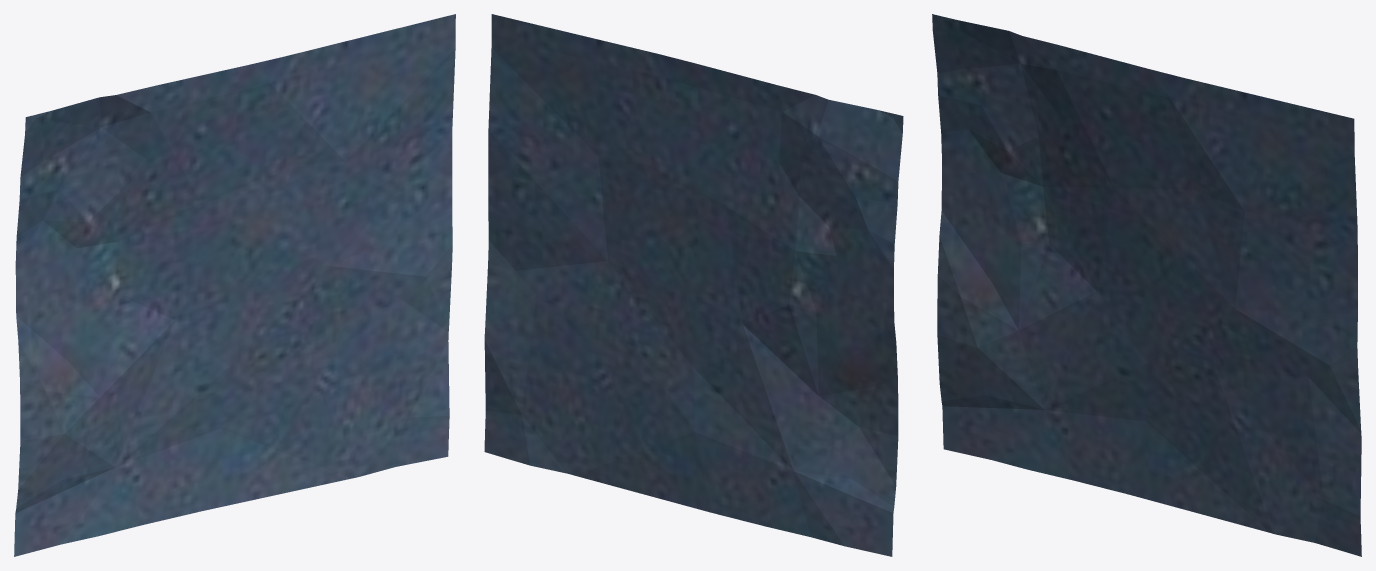
Rendered from Tile_+001_+006_L23_003302.obj.
3 views of the same model, side by side, from view 1: azimuth 30°, elevation 25°; view 2: azimuth 150°, elevation 25°; view 3: azimuth 330°, elevation 25° (orthographic). The views are drawn at different scales.
Bounding box in the file's own units: 1.91 × 1.91 × 0.1168.
Materials: 1 (1 with a texture image).
